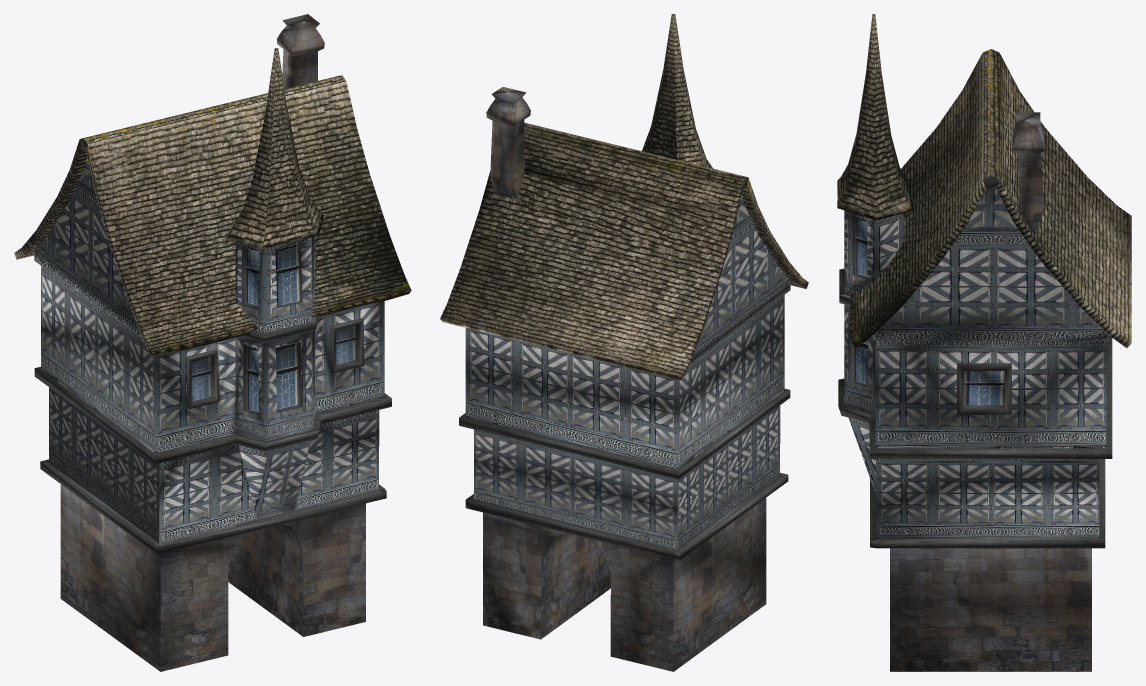
The model's file is medhouse18.fbx.
3 renders of one model, left to right at view 1: azimuth 30°, elevation 25°; view 2: azimuth 150°, elevation 25°; view 3: azimuth 270°, elevation 25°, orthographic. The views are drawn at different scales.
Parts seen in each view (by area): view 1: medhouse18; view 2: medhouse18; view 3: medhouse18.
Boxes of the visible parts, bbox=[...] form: medhouse18: bbox=[14, 14, 411, 671]; medhouse18: bbox=[440, 14, 808, 671]; medhouse18: bbox=[837, 14, 1131, 671].
Size of the model in its own units: 617 by 1373 by 601.
